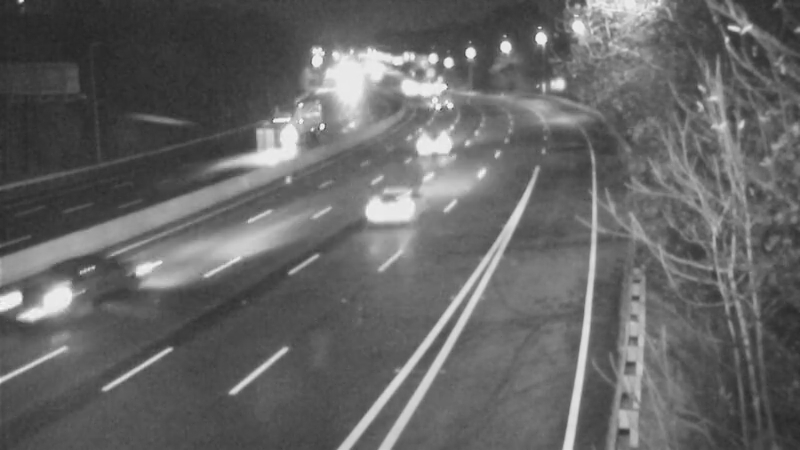vehicle: (363, 173, 443, 253), (212, 116, 292, 196), (1, 252, 80, 332), (416, 112, 466, 162)
